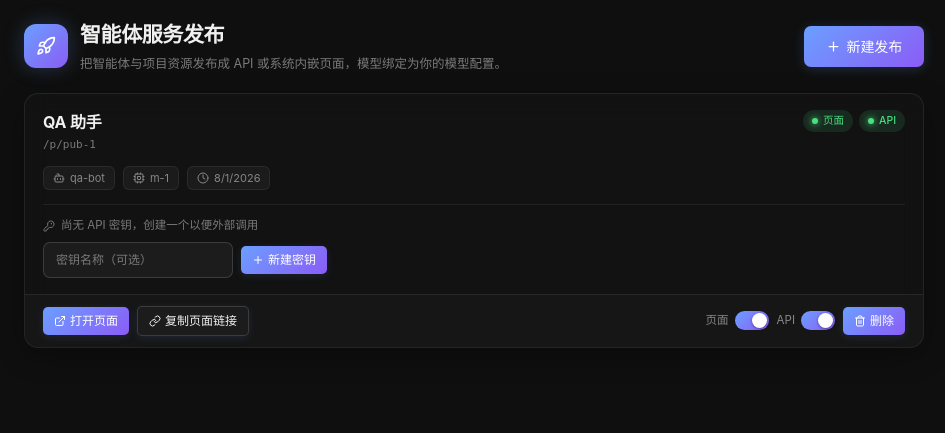
Test case: PublishesPage › renders a freshly created key as active without a reload
In the field with placeholder "密钥名称（可选）": (138, 260) top-left (43, 242), bottom-right (233, 278), type "prod"
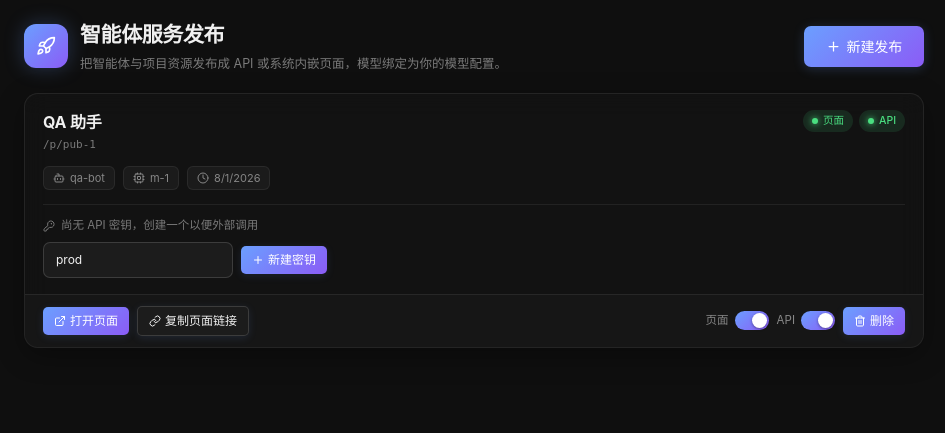
Press Enter in the field, box top-left (43, 242), bottom-right (233, 278)
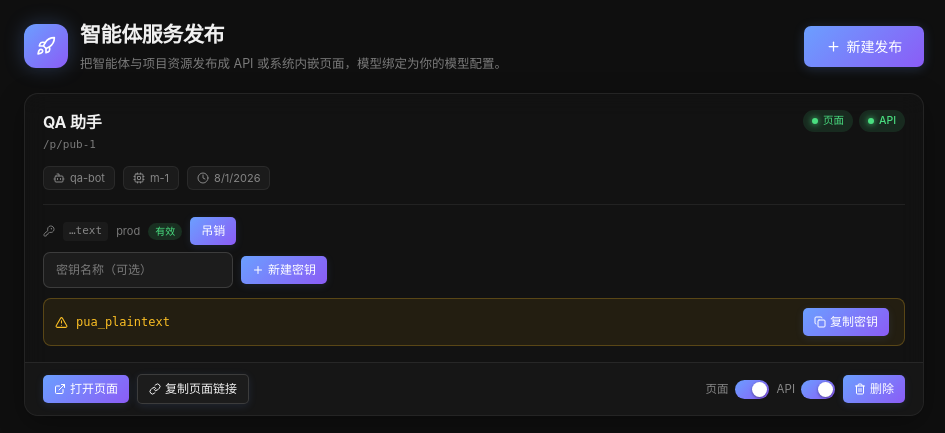
Now the button with class "danger" showing "吊销" is shown, box top-left (190, 217), bottom-right (236, 245)
